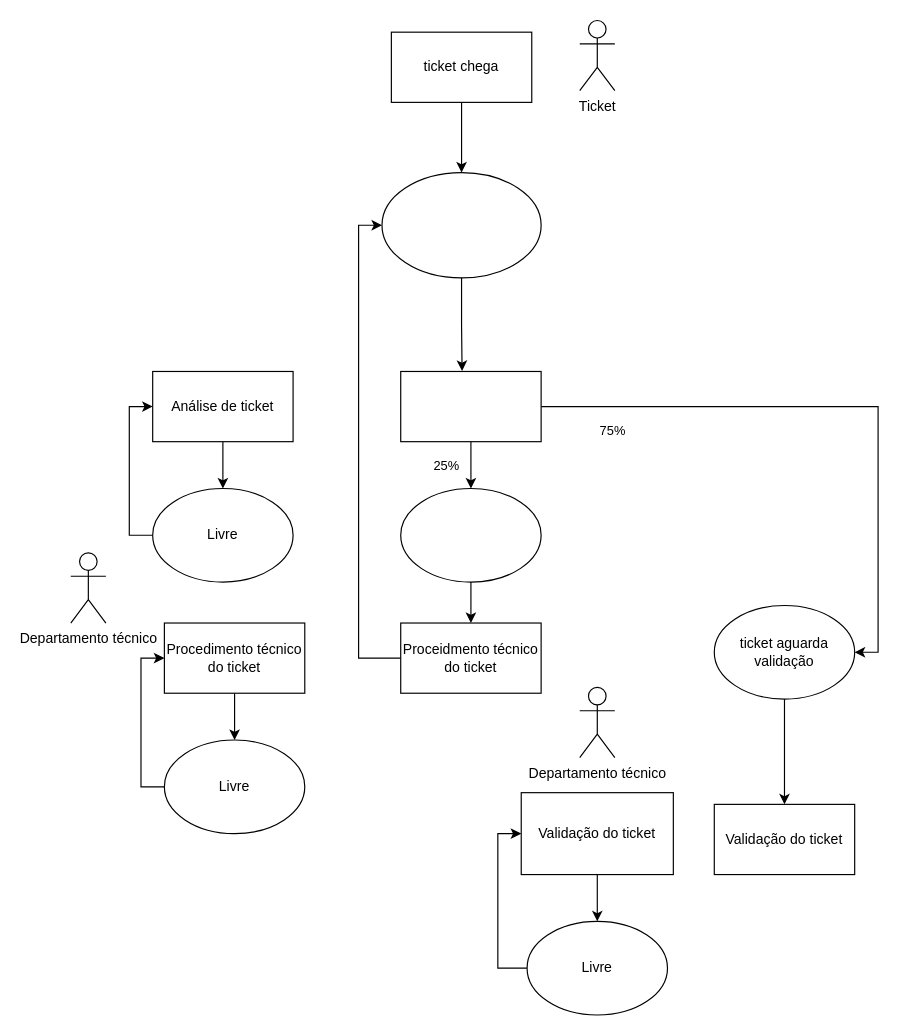
The diagram is 908 pixels wide and 1035 high, and some of its shapes have lost their labels. The shapes that lost their labels are listed below. From the top down, each one's centre as x and y in pixels, then its label:
At [461,224]: "ticket aguarda análise".
At [470,406]: "ticket é analisado".
At [470,534]: "ticket aguarda procedimento".
